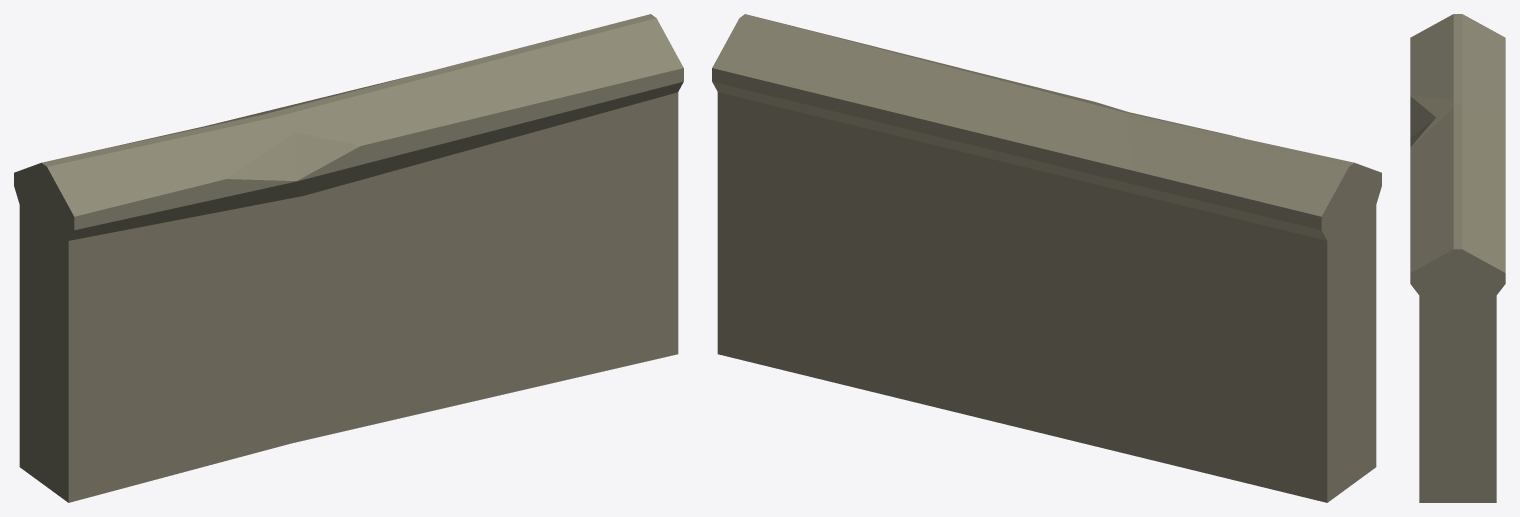
The model's file is Wall.fbx.
3 renders of one model, left to right at view 1: azimuth 30°, elevation 25°; view 2: azimuth 150°, elevation 25°; view 3: azimuth 270°, elevation 25°, orthographic. The views are drawn at different scales.
Parts seen in each view (by area): view 1: Wall; view 2: Wall; view 3: Wall.
Boxes of the visible parts, x1,y1,x2,y2 form: Wall: (14,14,683,502); Wall: (712,14,1381,502); Wall: (1410,14,1505,502).
Bounding box in the file's own units: 303 × 152 × 51.83.
